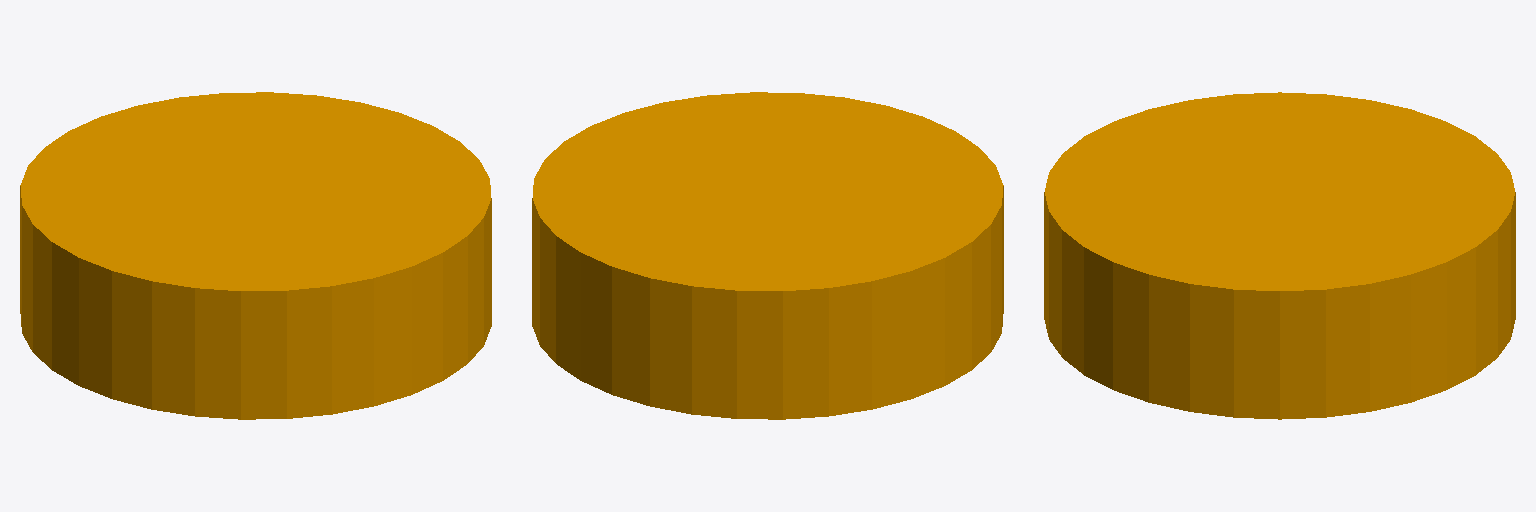
The robot description file, URDF, robot "object":
<?xml version="1.0"?>
<!-- Auto-generated by tools/gen_primitive_objects.py. kind=cyl dims=(0.05, 0.03) -->
<robot name="object">
  <link name="object">
    <visual>
      <origin xyz="0 0 0"/>
      <geometry>
        <cylinder radius="0.050000" length="0.030000"/>
      </geometry>
    </visual>
    <collision>
      <origin xyz="0 0 0"/>
      <geometry>
        <cylinder radius="0.050000" length="0.030000"/>
      </geometry>
    </collision>
    <inertial>
      <mass value="0.047124"/>
      <inertia ixx="0.00003299" ixy="0.0" ixz="0.0" iyy="0.00003299" iyz="0.0" izz="0.00005890"/>
    </inertial>
  </link>
</robot>

--- Render facts (derived) ---
3 views of the same robot in one strip: view 1: azimuth 30°, elevation 25°; view 2: azimuth 150°, elevation 25°; view 3: azimuth 270°, elevation 25° (orthographic).
Robot: object — 1 links, 0 joints (none); root link object; default pose: every joint at zero.
Visible links, largest first — view 1: object; view 2: object; view 3: object.
Link boxes in pixels (x1,y1,x2,y2): object: (20, 92, 491, 419); object: (532, 92, 1003, 419); object: (1044, 92, 1515, 419).
Size in the robot's own frame: 0.1 by 0.1 by 0.03 metres.
Geometry: primitives only (box / cylinder / sphere), no mesh files.
